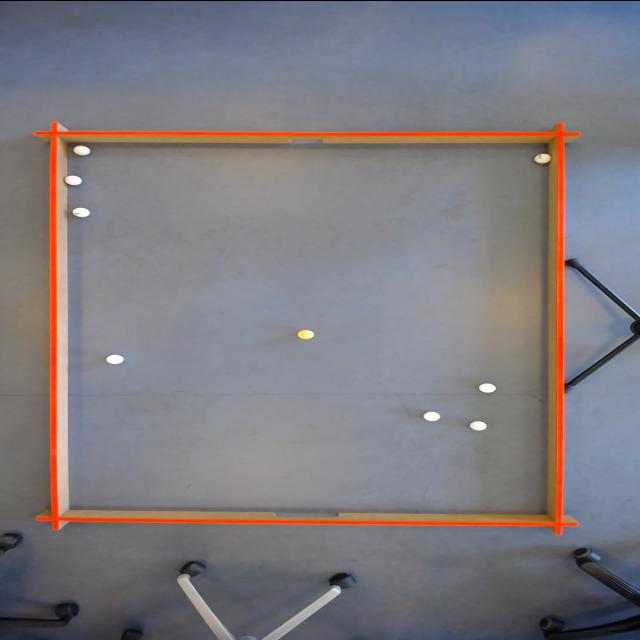orange_ball: (294, 328, 318, 340)
white_ball: (476, 380, 500, 394), (420, 408, 444, 422), (70, 204, 94, 218), (530, 151, 556, 163), (69, 143, 93, 156), (467, 419, 492, 431), (62, 174, 86, 186), (105, 353, 126, 365)
